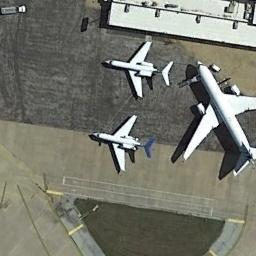Airplane: (170, 59, 255, 179), (100, 38, 173, 99), (87, 113, 155, 174)
